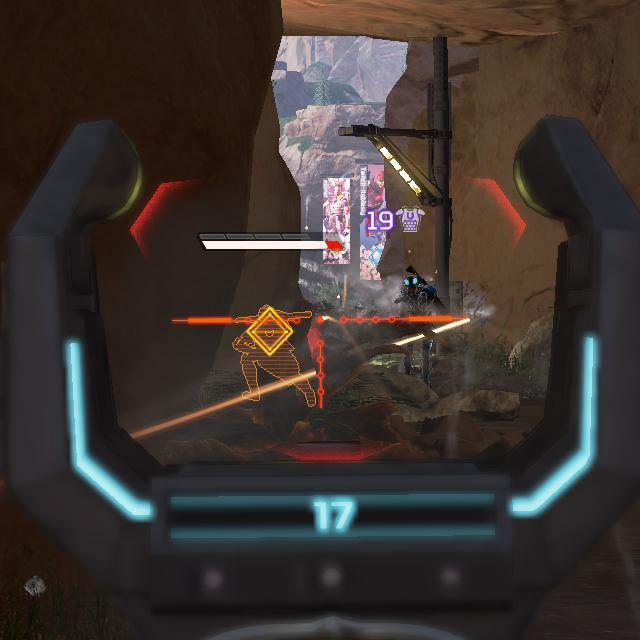avatar: (393, 272, 439, 391)
object: (245, 304, 294, 356)
